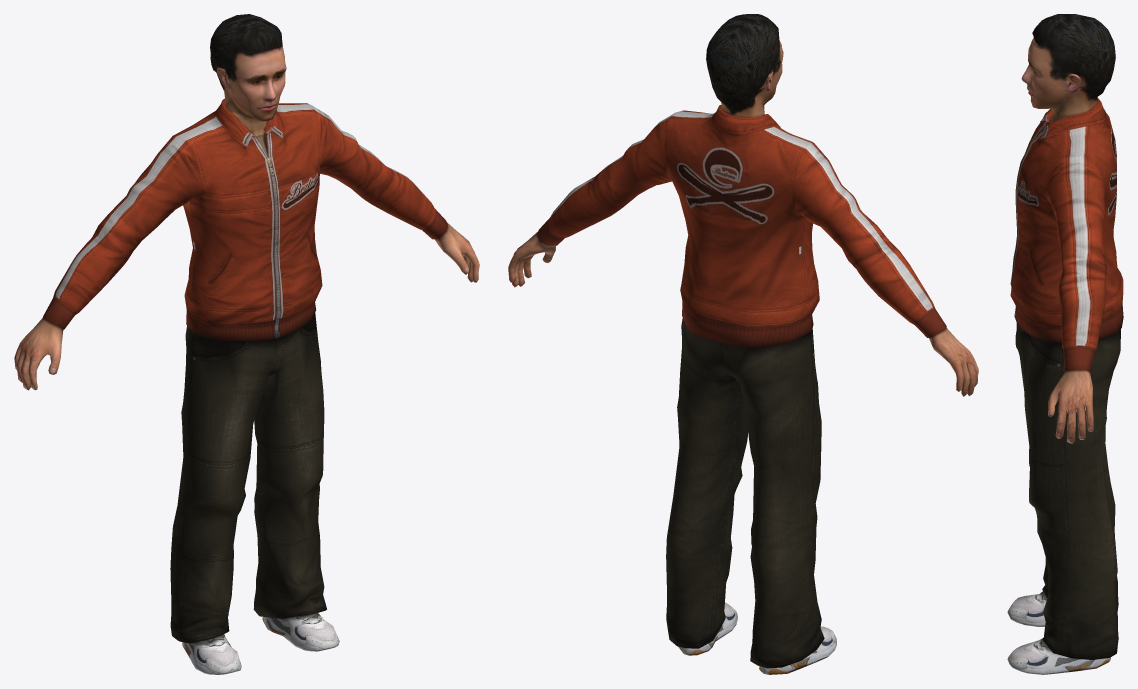
File: chacha_indian_theft_auto_model.glb
3 renders of one model, left to right at view 1: azimuth 30°, elevation 25°; view 2: azimuth 150°, elevation 25°; view 3: azimuth 270°, elevation 25°, orthographic.
Parts seen in each view (by area): view 1: Object_2; view 2: Object_2; view 3: Object_2.
Part boxes in pixels (x1,y1,x2,y2): Object_2: (14, 14, 479, 674); Object_2: (508, 14, 978, 674); Object_2: (1007, 14, 1123, 674).
Size of the model in its own units: 3.81 by 5 by 0.8418.
1 material, 1 textured.
